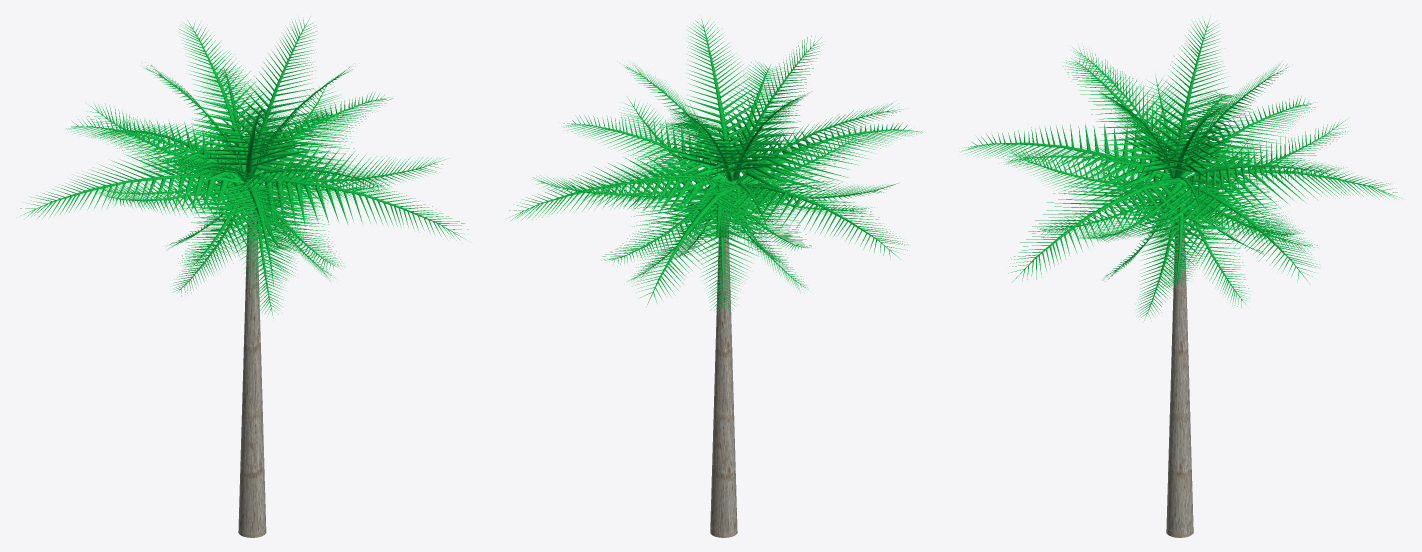
The model's file is PalmTreeMature.fbx.
The picture shows the model from 3 angles, left to right: view 1: azimuth 30°, elevation 25°; view 2: azimuth 150°, elevation 25°; view 3: azimuth 270°, elevation 25°; orthographic projection. The views are drawn at different scales.
Visible parts, largest first — view 1: Cylinder001; view 2: Cylinder001; view 3: Cylinder001.
Part boxes in pixels (x1=…): Cylinder001: x1=20, y1=17, x2=468, y2=537; Cylinder001: x1=509, y1=18, x2=922, y2=537; Cylinder001: x1=960, y1=18, x2=1402, y2=537.
Bounding box in the file's own units: 73.77 × 90.94 × 78.93.
